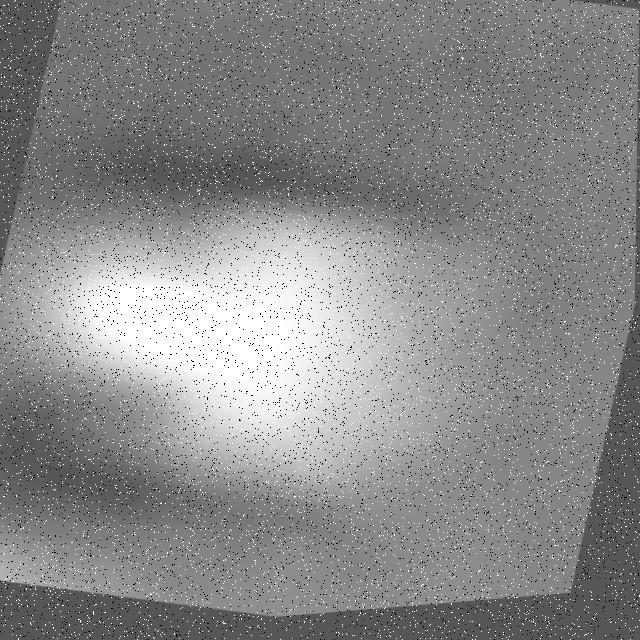person: (1, 110, 562, 561), (1, 454, 405, 640)
